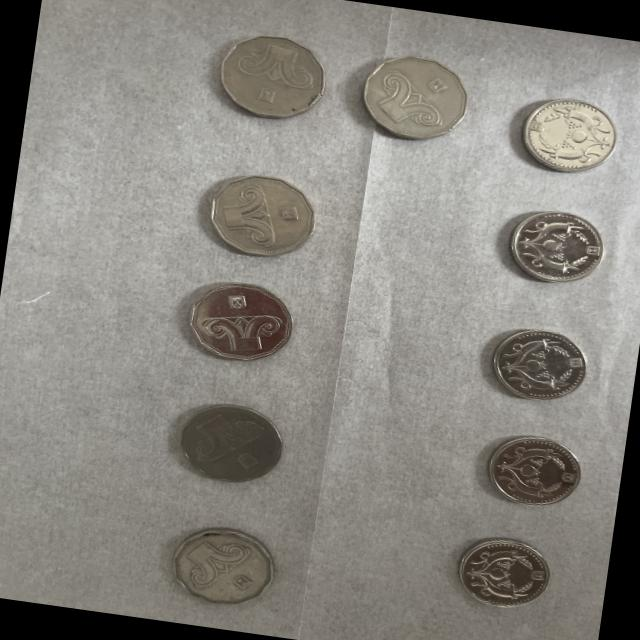2-shekel: (480, 428, 592, 522), (514, 90, 620, 188), (450, 528, 559, 622), (486, 319, 590, 408), (509, 206, 608, 296)
5-shekel: (200, 168, 326, 270), (178, 275, 304, 373), (168, 394, 290, 494), (216, 27, 336, 128), (358, 50, 478, 150), (164, 522, 286, 614)
